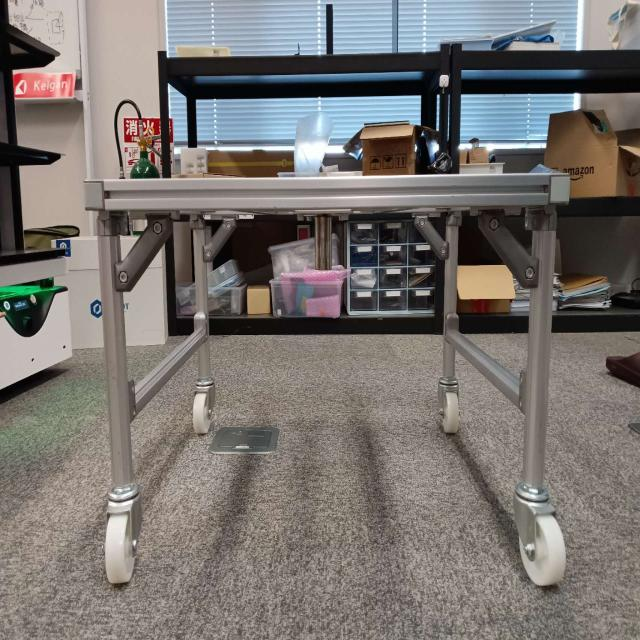door: (96, 173, 556, 296)
